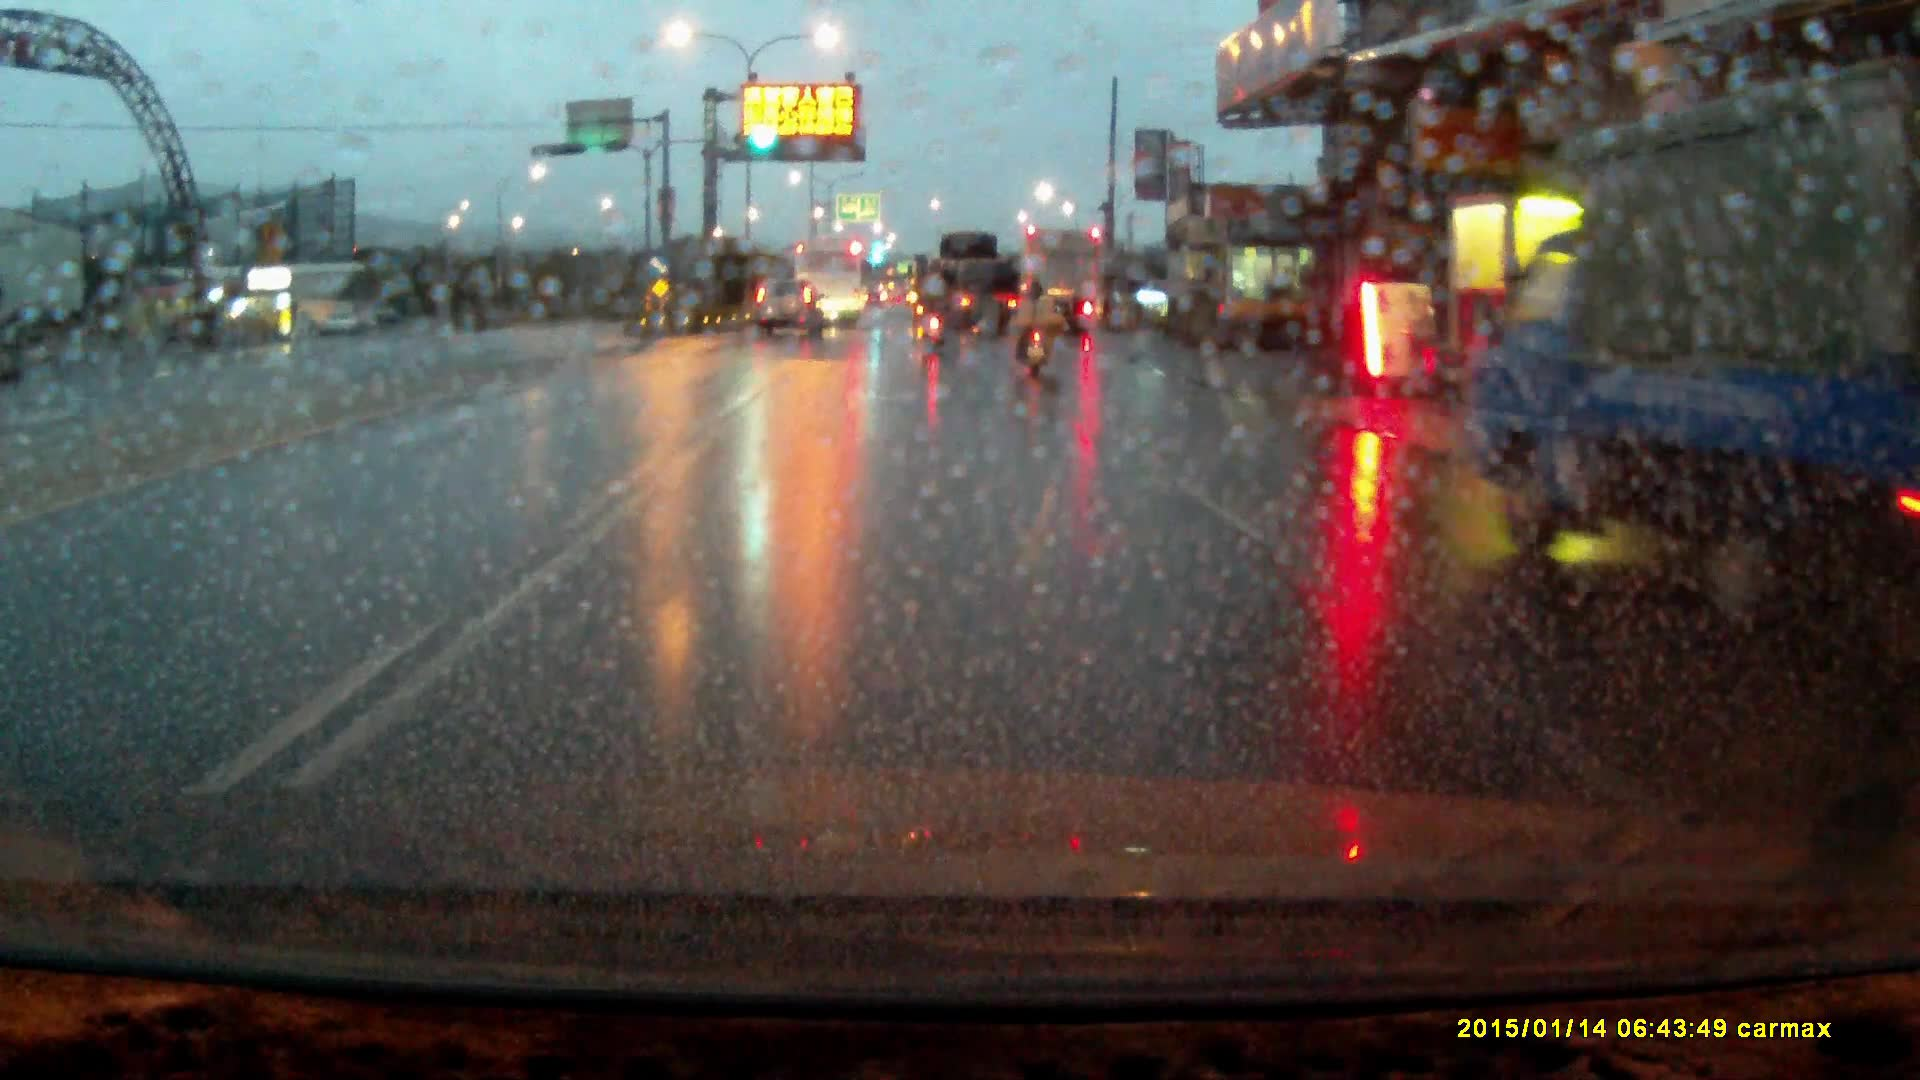rider: (1016, 277, 1054, 379), (922, 280, 946, 350)
vehicle: (1460, 76, 1920, 587), (926, 231, 1024, 344), (1023, 229, 1106, 334), (794, 235, 868, 329), (754, 277, 822, 340)
